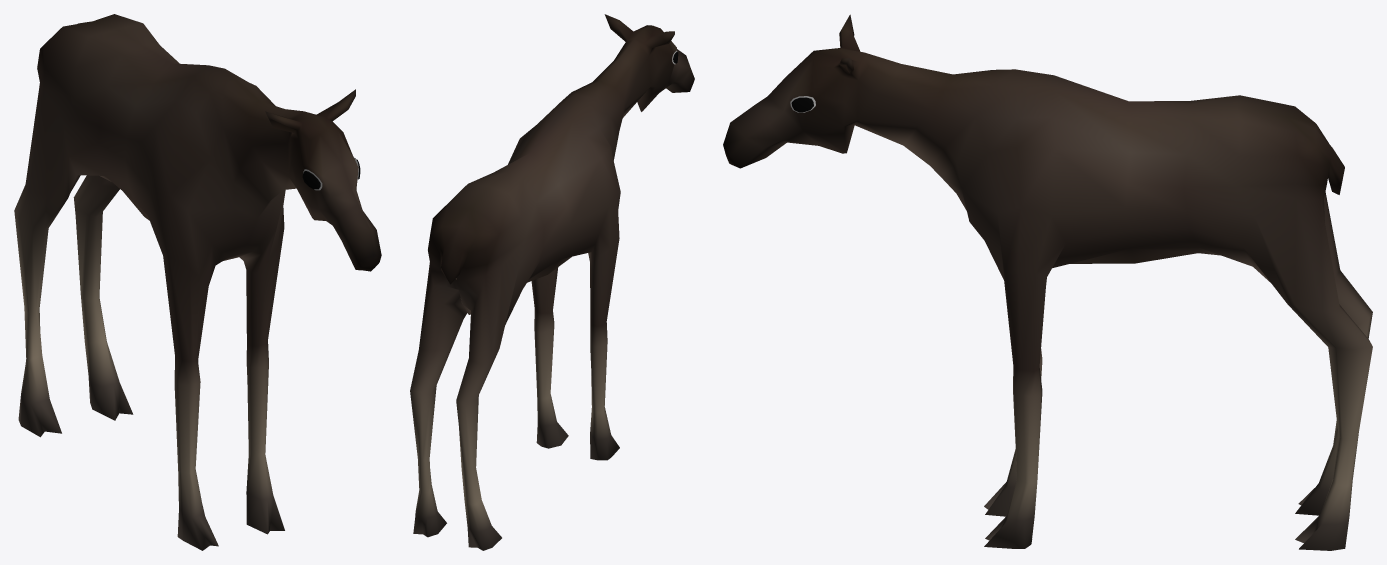
The model's file is animals-animals-moose_v2.glb.
3 views of the same model, side by side, from view 1: azimuth 30°, elevation 25°; view 2: azimuth 150°, elevation 25°; view 3: azimuth 270°, elevation 25° (orthographic). The views are drawn at different scales.
Parts seen in each view (by area): view 1: Moose_v2; view 2: Moose_v2; view 3: Moose_v2.
Boxes of the visible parts, x1=… form: Moose_v2: x1=14, y1=14, x2=381, y2=550; Moose_v2: x1=410, y1=14, x2=694, y2=550; Moose_v2: x1=723, y1=14, x2=1372, y2=550.
Size of the model in its own units: 0.4858 by 1.88 by 2.26.
